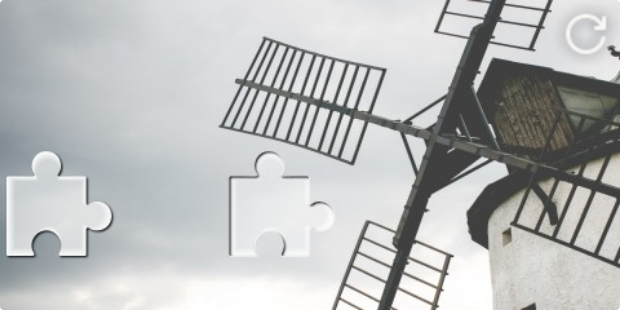target: (230, 151, 334, 258)
